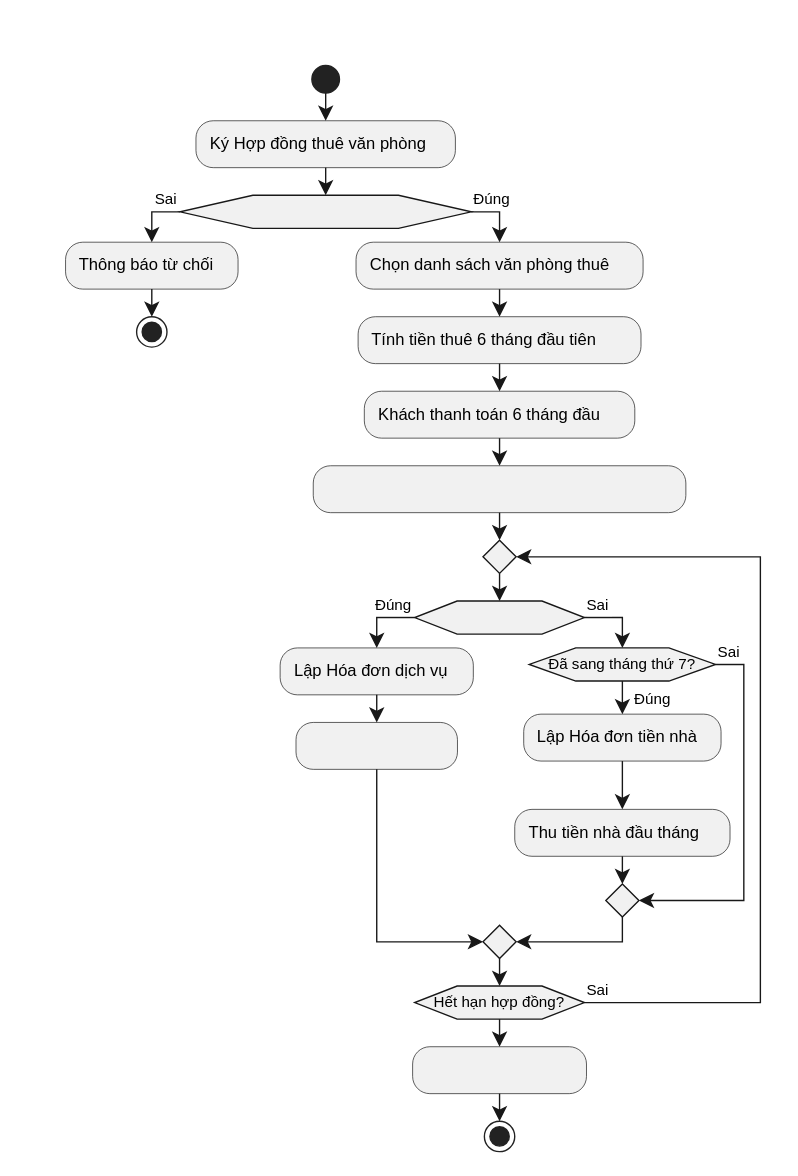
This 798x1176 diagram has some shape labels left out. Each missing label, with the centre of its shape:
Kiểm tra thời hạn thuê >= 6 tháng?: the point at 325,211
Kết thúc / Gia hạn: the point at 499,1069
Lưu Hợp đồng & Cập nhật trạng thái phòng: the point at 499,488
Thu tiền dịch vụ: the point at 376,745
Đã đến cuối tháng?: the point at 498,617
